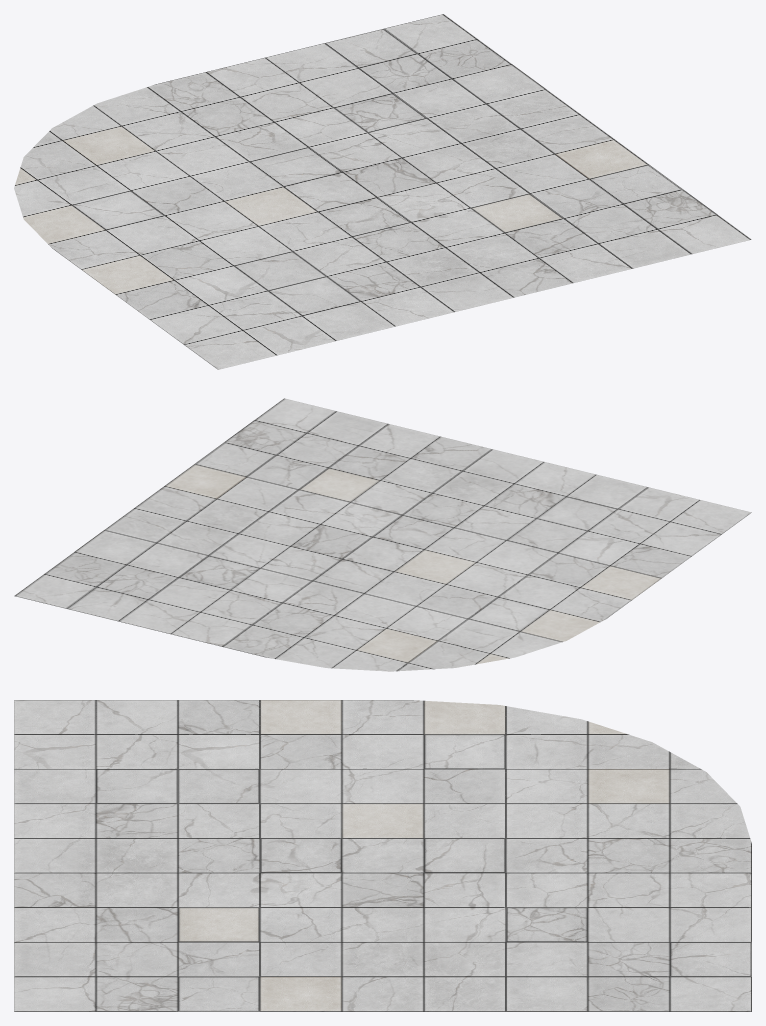
Rendered from MB_Floor_Angle_02.fbx.
3 renders of one model, top to bottom at view 1: azimuth 30°, elevation 25°; view 2: azimuth 150°, elevation 25°; view 3: azimuth 270°, elevation 25°, orthographic. The views are drawn at different scales.
Parts seen in each view (by area): view 1: MB_Floor_Angle_02; view 2: MB_Floor_Angle_02; view 3: MB_Floor_Angle_02.
Boxes of the visible parts, x1,y1,x2,y2 form: MB_Floor_Angle_02: [14, 14, 751, 369]; MB_Floor_Angle_02: [14, 398, 751, 671]; MB_Floor_Angle_02: [14, 700, 751, 1011].
Size of the model in its own units: 300 by 0 by 300.
